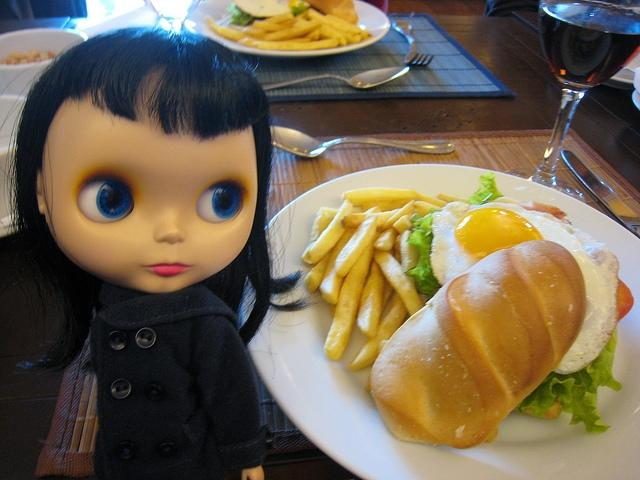lettuce: (468, 171, 506, 205), (229, 12, 254, 26), (292, 2, 307, 16)
tomato: (616, 280, 634, 324)
